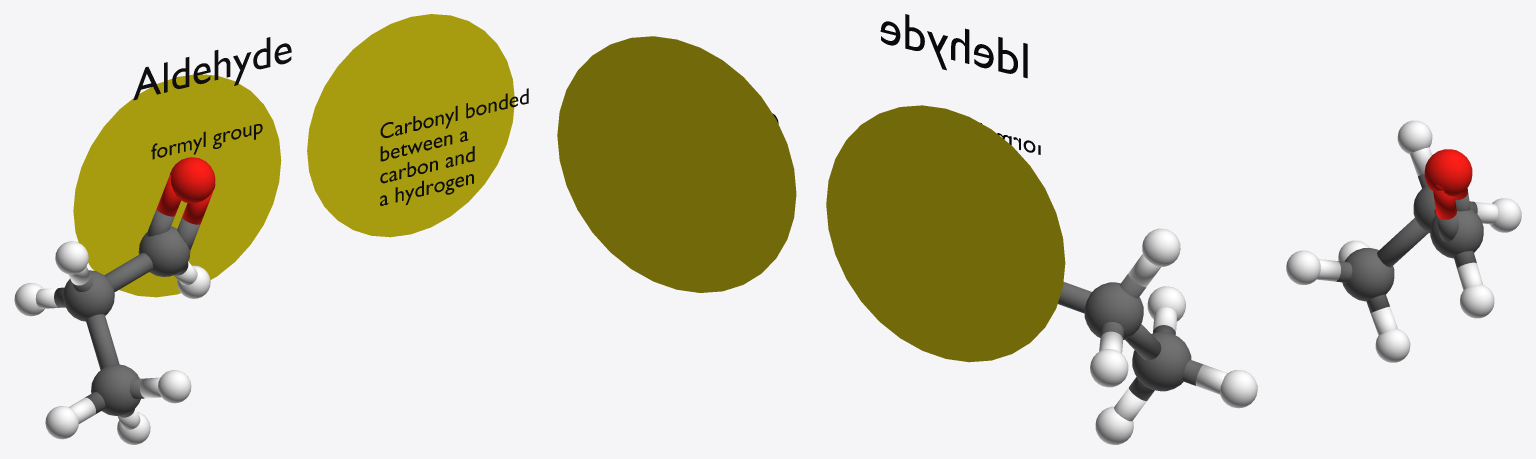
The model's file is 5aldehyde.glb.
3 views of the same model, side by side, from view 1: azimuth 30°, elevation 25°; view 2: azimuth 150°, elevation 25°; view 3: azimuth 270°, elevation 25° (orthographic). The views are drawn at different scales.
Visible parts, largest first — view 1: Circle.001_3, Circle_0, Propanal_5, Text.004_7, Text.003_6, Text.005_8; view 2: Circle_0, Circle.001_3, Propanal_5, Text.003_6; view 3: Propanal_5.
Part boxes in pixels (x1,y1,x2,y2): Circle.001_3: [307, 14, 514, 237]; Circle_0: [73, 74, 281, 297]; Propanal_5: [14, 157, 215, 444]; Text.004_7: [380, 88, 528, 205]; Text.003_6: [133, 37, 291, 100]; Text.005_8: [151, 124, 262, 159]; Circle_0: [826, 105, 1065, 362]; Circle.001_3: [557, 36, 796, 292]; Propanal_5: [1058, 228, 1257, 444]; Text.003_6: [880, 14, 1027, 78]; Propanal_5: [1286, 120, 1521, 362].
Size of the model in its own units: 2.55 by 1.6 by 0.9331.
